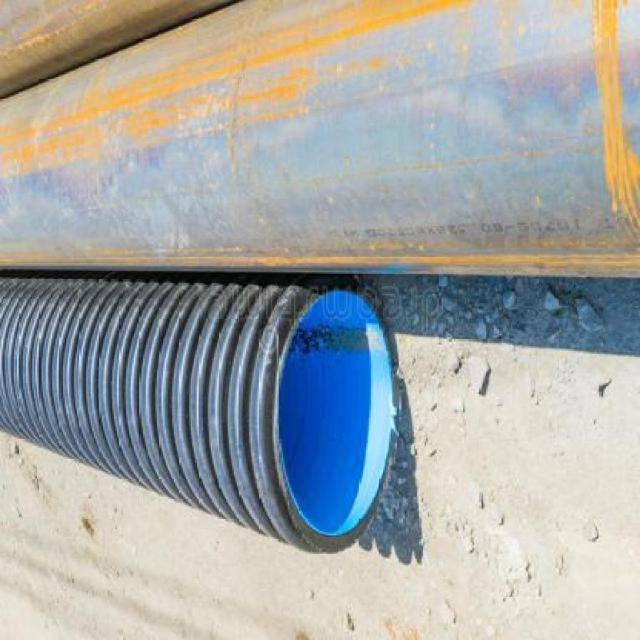pipe: (271, 289, 402, 554)
